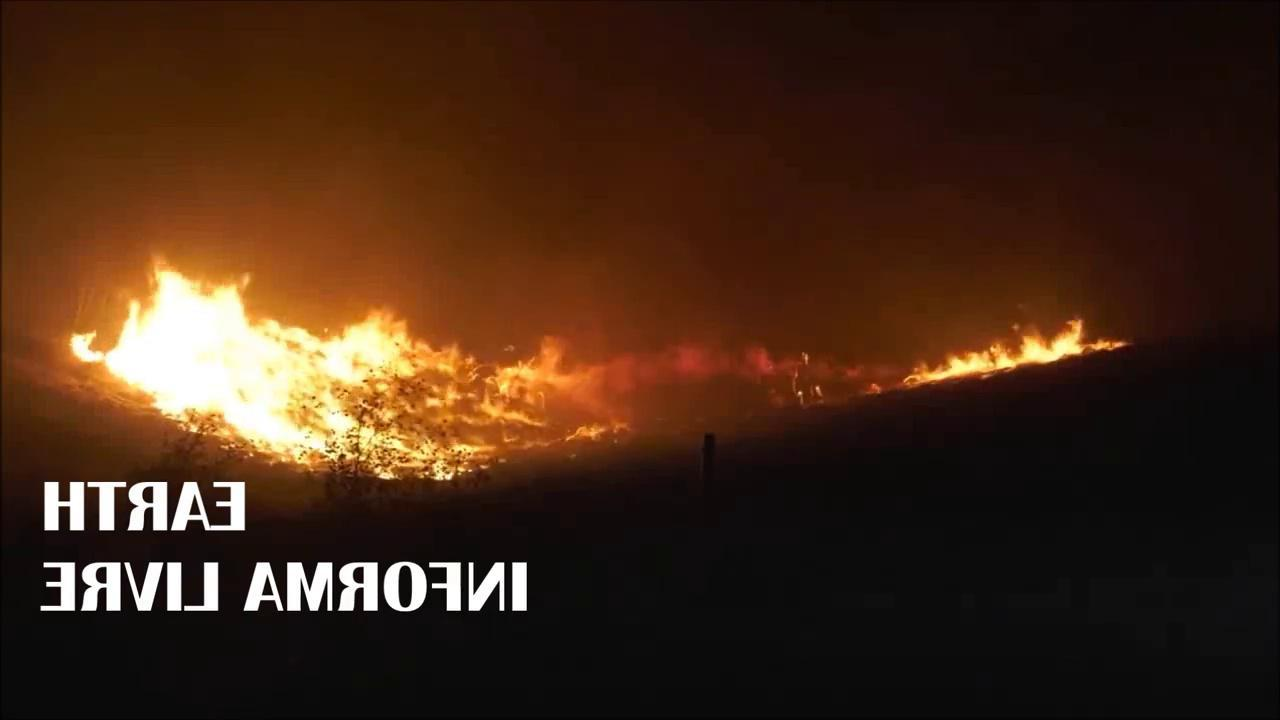Fire: (69, 238, 643, 485), (903, 314, 1133, 391)
